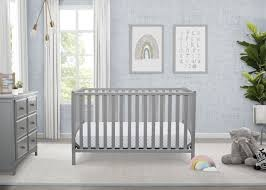crib: (71, 87, 196, 166)
